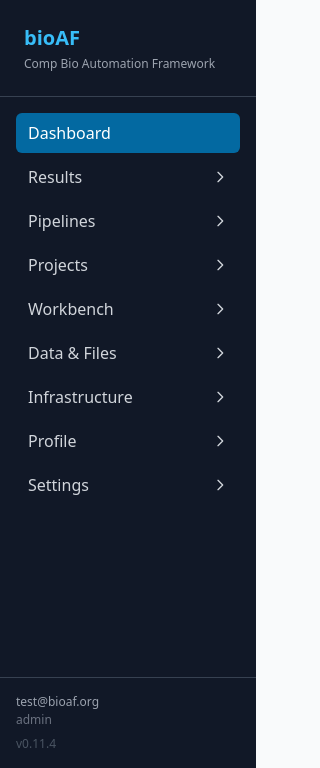
Scenario: Sidebar › toggles children visibility when clicking expandable section
Expected: the text "QC Dashboards" is not shown
Click Results to expand
Click the button "Results". click: point(128, 177)
box: left=16, top=157, right=240, bottom=197
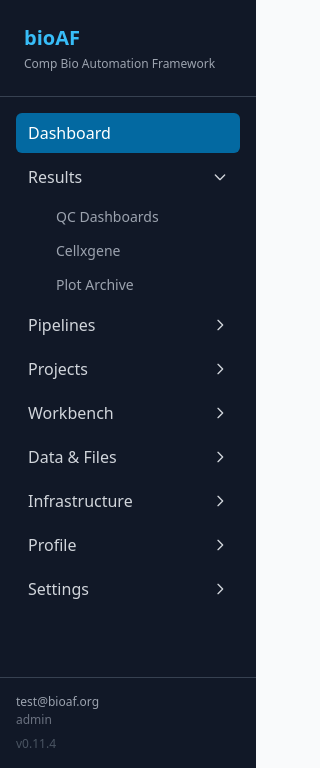
Expected: the link "QC Dashboards" is shown, left=56, top=207, right=159, bottom=226
Expected: the link "Cellxgene" is shown, left=56, top=241, right=120, bottom=260
Expected: the link "Plot Archive" is shown, left=56, top=275, right=134, bottom=294
Click again to collapse
Click the button "Results". click: point(128, 177)
box: left=16, top=157, right=240, bottom=197
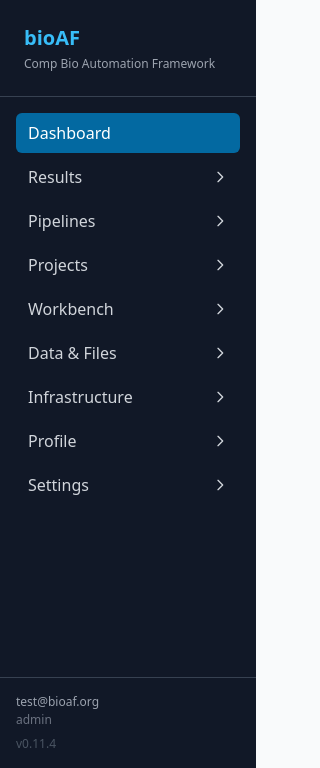
Expected: the link "QC Dashboards" is gone
